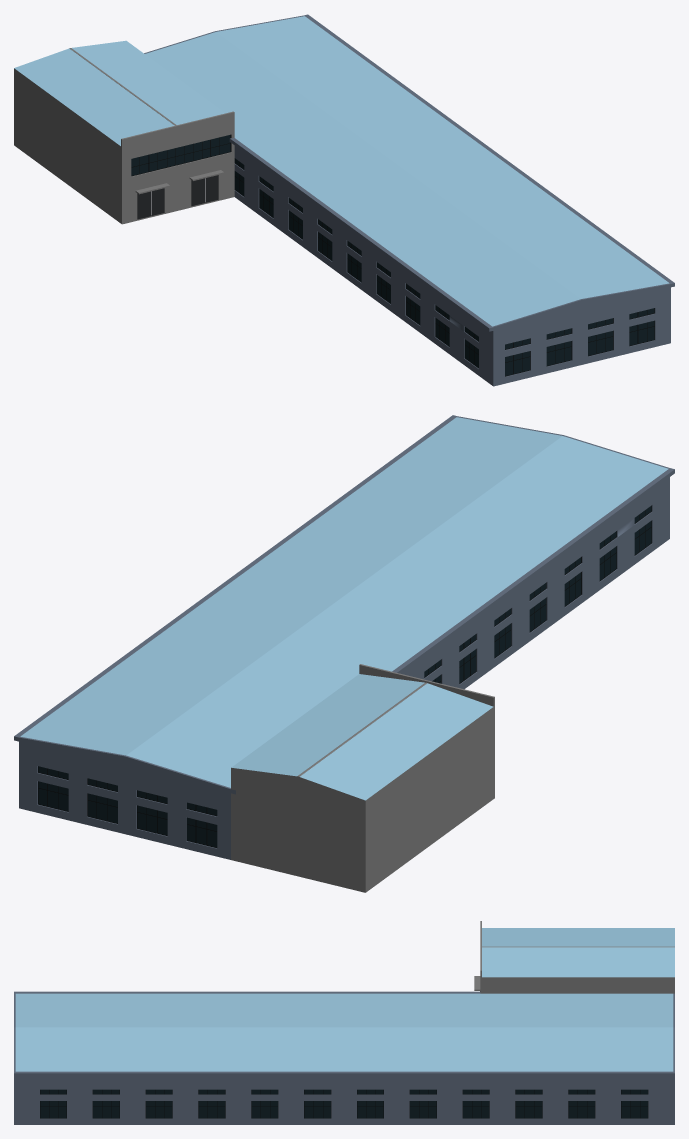
Rendered from factory2.fbx.
3 renders of one model, top to bottom at view 1: azimuth 30°, elevation 25°; view 2: azimuth 150°, elevation 25°; view 3: azimuth 270°, elevation 25°, orthographic. The views are drawn at different scales.
Visible parts, largest first — view 1: Obj3d66-1710141-55-958, Obj3d66-1710141-54-149, Obj3d66-1710141-49-40, Obj3d66-1710141-53-743, Obj3d66-1710141-52-755, Obj3d66-1710141-50-619; view 2: Obj3d66-1710141-55-958, Obj3d66-1710141-54-149, Obj3d66-1710141-49-40, Obj3d66-1710141-53-743, Obj3d66-1710141-52-755; view 3: Obj3d66-1710141-55-958, Obj3d66-1710141-54-149, Obj3d66-1710141-53-743, Obj3d66-1710141-49-40, Obj3d66-1710141-52-755.
Part boxes in pixels (x1,y1,x2,y2): Obj3d66-1710141-55-958: (14, 16, 669, 326); Obj3d66-1710141-54-149: (144, 14, 674, 386); Obj3d66-1710141-49-40: (14, 48, 234, 224); Obj3d66-1710141-53-743: (131, 134, 654, 375); Obj3d66-1710141-52-755: (131, 135, 654, 376); Obj3d66-1710141-50-619: (137, 175, 218, 219); Obj3d66-1710141-55-958: (20, 417, 668, 800); Obj3d66-1710141-54-149: (14, 415, 674, 859); Obj3d66-1710141-49-40: (231, 664, 494, 892); Obj3d66-1710141-53-743: (38, 505, 651, 847); Obj3d66-1710141-52-755: (38, 505, 651, 847); Obj3d66-1710141-55-958: (15, 928, 674, 1071); Obj3d66-1710141-54-149: (14, 991, 674, 1124); Obj3d66-1710141-53-743: (40, 1089, 647, 1118); Obj3d66-1710141-49-40: (474, 921, 674, 993); Obj3d66-1710141-52-755: (40, 1090, 648, 1118).
Bounding box in the file's own units: 41832 × 11541 × 90440.
